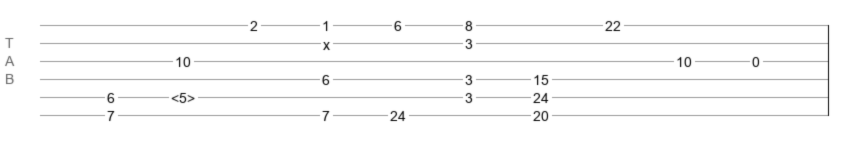0: (752, 54, 760, 64)
1: (322, 18, 330, 28)
10: (175, 54, 191, 64), (676, 54, 692, 64)
15: (533, 72, 549, 82)
2: (250, 18, 258, 28)
20: (533, 108, 549, 118)
22: (605, 18, 621, 28)
24: (390, 108, 406, 118), (533, 90, 549, 100)
3: (465, 90, 473, 100), (465, 36, 473, 46), (465, 72, 473, 82)
6: (107, 90, 115, 100), (322, 72, 330, 82), (394, 18, 402, 28)
7: (107, 108, 115, 118), (322, 108, 330, 118)
8: (465, 18, 473, 28)
harmonic: (171, 90, 195, 100)
x: (323, 37, 330, 45)
